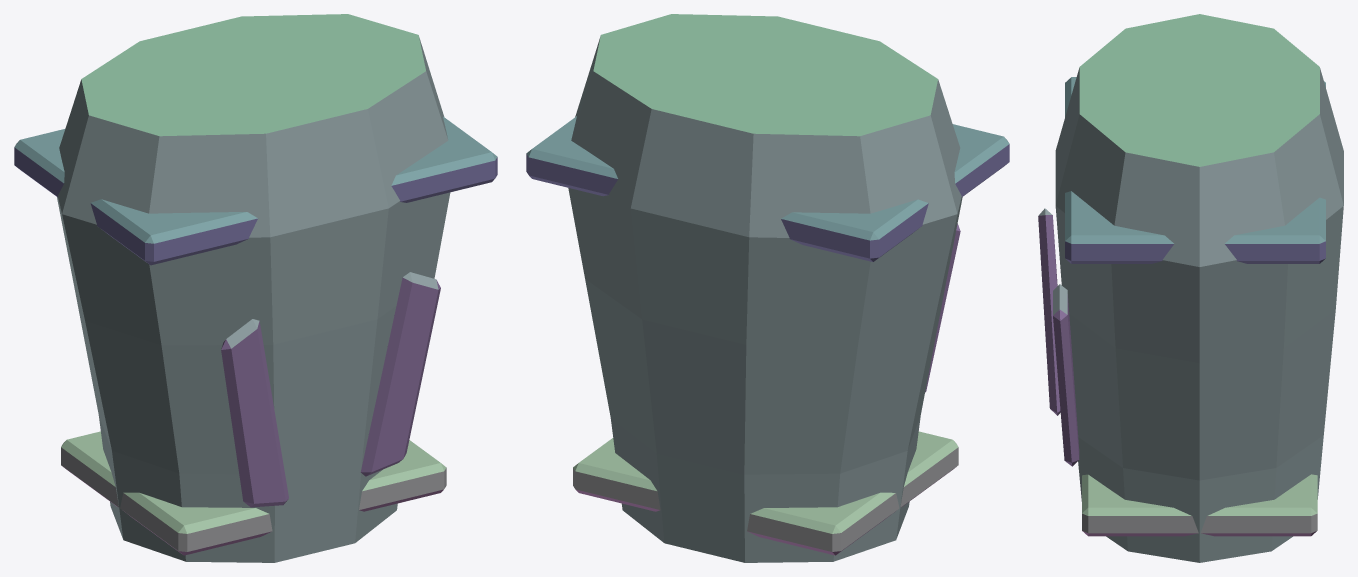
File: npc_module_torso_v01.glb
3 views of the same model, side by side, from view 1: azimuth 30°, elevation 25°; view 2: azimuth 150°, elevation 25°; view 3: azimuth 270°, elevation 25° (orthographic). The views are drawn at different scales.
Visible parts, largest first — view 1: GEO_npc_module_torso_v01; view 2: GEO_npc_module_torso_v01; view 3: GEO_npc_module_torso_v01.
Boxes of the visible parts, x1,y1,x2,y2 form: GEO_npc_module_torso_v01: (14,14,497,562); GEO_npc_module_torso_v01: (526,14,1009,562); GEO_npc_module_torso_v01: (1038,14,1343,562).
Size of the model in its own units: 1 by 1.08 by 0.7263.
